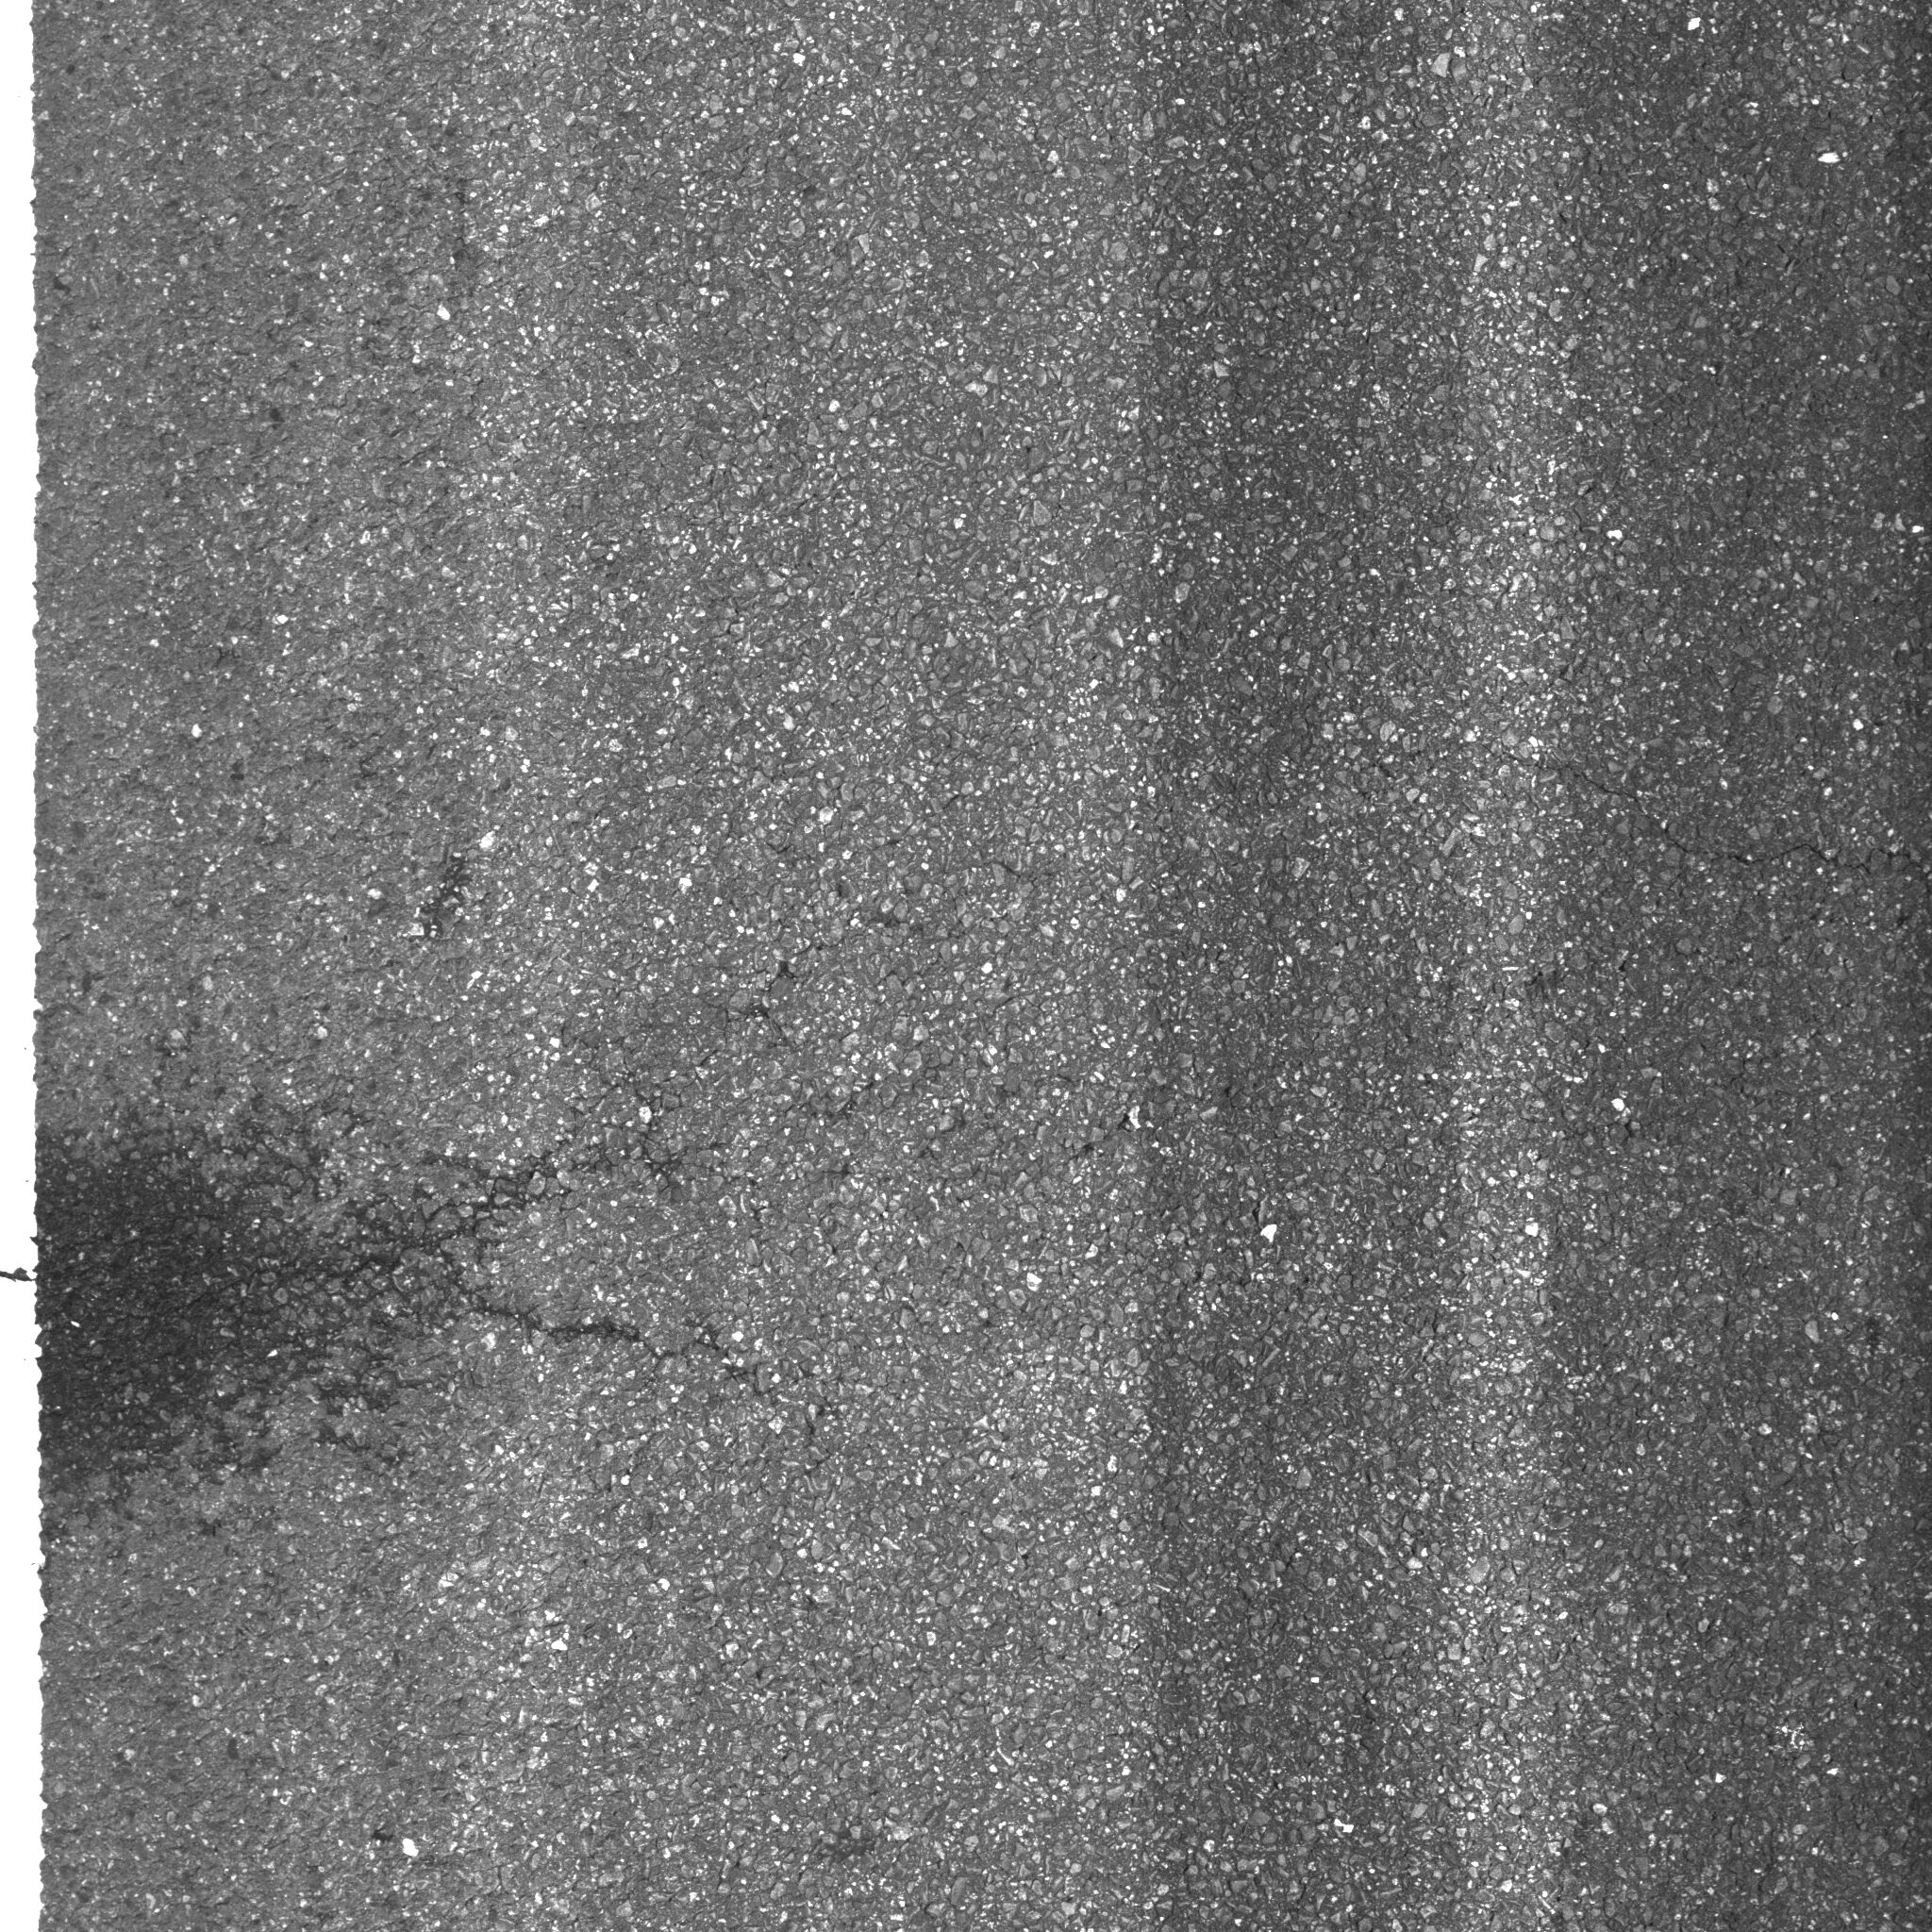transeverse: (324, 1118, 893, 1433), (1327, 704, 1932, 906)
